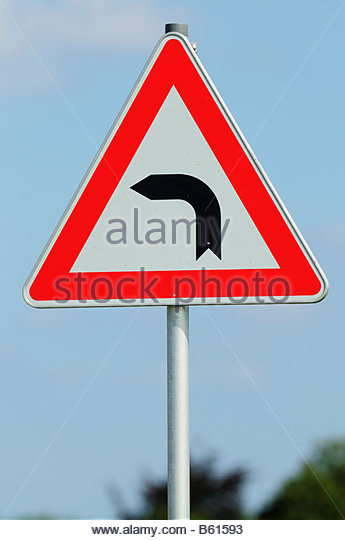Bend_to_left: (18, 32, 330, 309)
